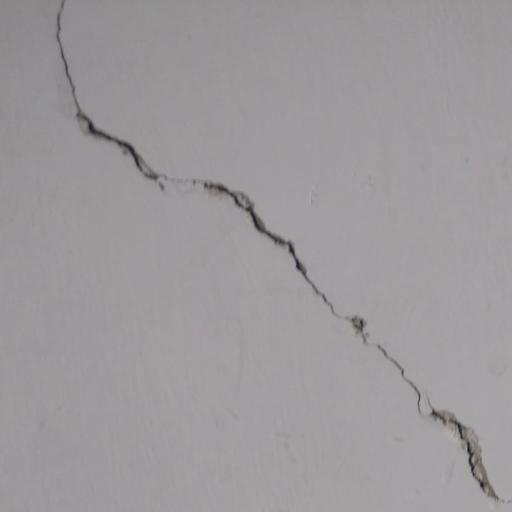major_crack: (40, 0, 497, 491)
